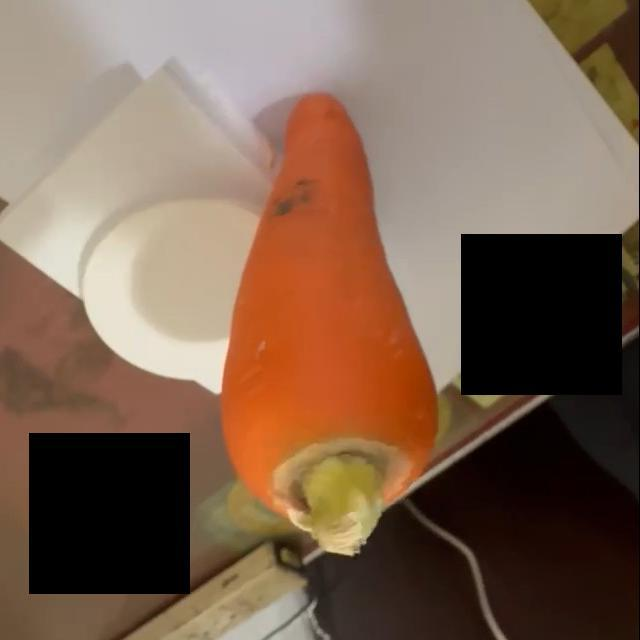carrot: (223, 91, 443, 558)
